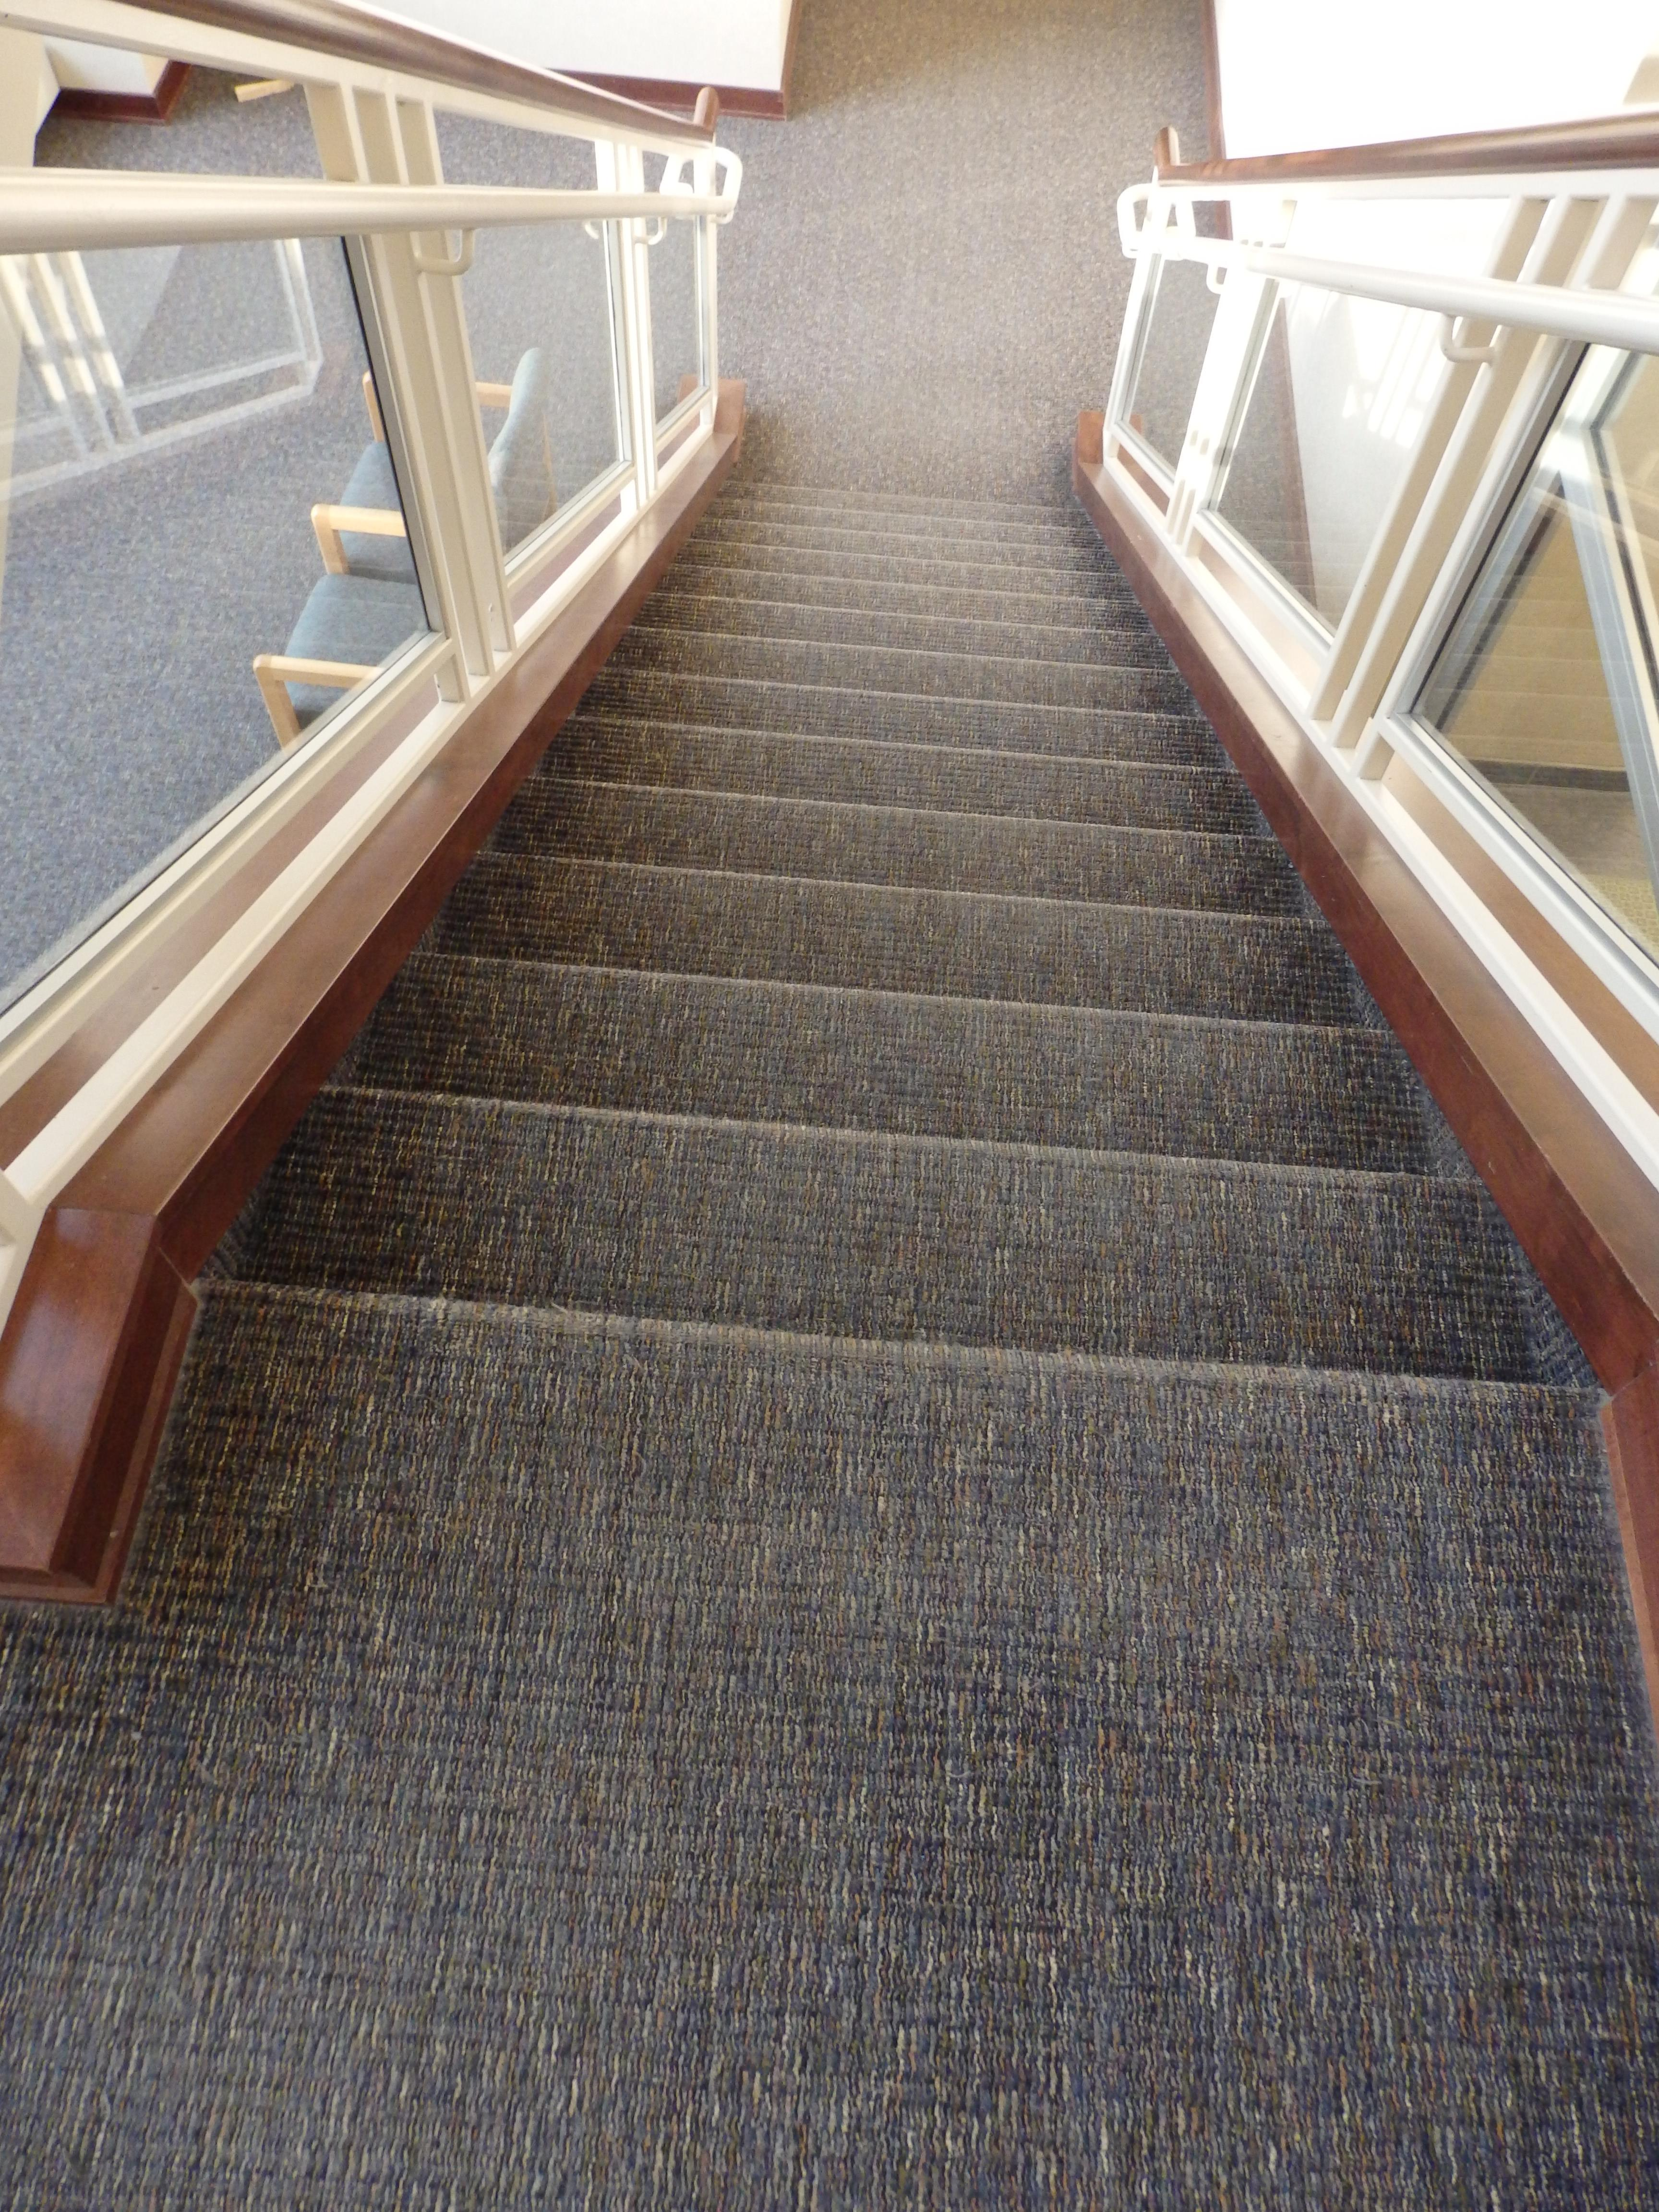stairs_down: (246, 430, 1591, 1501)
